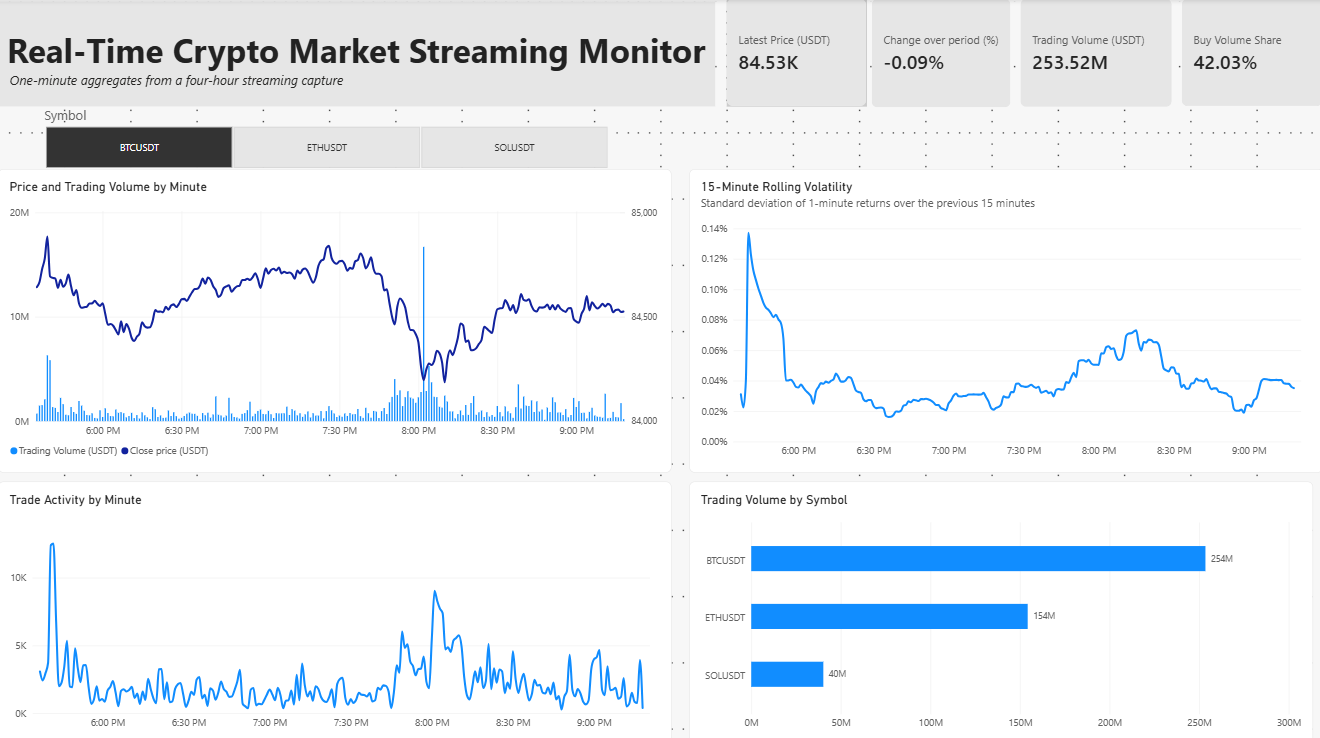

The dashboard page shown, as its layout file describes it:
{"tool":"powerbi","page":{"name":"Crypto Dashboard","canvas":[1920,1080],"ordinal":0},"visuals":[{"type":"lineClusteredColumnComboChart","title":"Price and Trading Volume by Minute","fields":{"Category":["live bars_1m.window_start"],"Y":["Sum(live bars_1m.quote_volume)"],"Y2":["Max(live bars_1m.close)"]},"box":[0,246.3,976.3,440.2],"z":0},{"type":"lineChart","title":"Trade Activity by Minute","fields":{"Category":["live bars_1m.window_start"],"Y":["Sum(live bars_1m.trade_count)"]},"box":[0,699.1,976.3,380.4],"z":2},{"type":"lineChart","title":"15-Minute Rolling Volatility","fields":{"Category":["live bars_1m.window_start"],"Y":["live bars_1m.Bar Range %"]},"box":[1001.7,246.3,918.3,440.2],"z":3},{"type":"cardVisual","fields":{"Data":["live bars_1m.Latest Price"]},"box":[1056,0,202.9,155.8],"z":4},{"type":"cardVisual","fields":{"Data":["live bars_1m.Price Change %"]},"box":[1266.8,0,201.1,157.6],"z":5},{"type":"cardVisual","fields":{"Data":["live bars_1m.Volume USDT"]},"box":[1481.7,0,219.1,156.5],"z":6},{"type":"cardVisual","fields":{"Data":["live bars_1m.Buy Share %"]},"box":[1715.3,0,204.7,155.8],"z":7},{"type":"barChart","title":"Trading Volume by Symbol","fields":{"Category":["live bars_1m.symbol"],"Y":["Sum(live bars_1m.quote_volume)"]},"box":[1001.7,699.1,903.8,380.4],"z":8},{"type":"slicer","title":"Select Symbol","fields":{"Values":["live bars_1m.symbol"]},"box":[48.9,182.9,853.1,63.4],"z":9},{"type":"textbox","box":[0,4.2,1039.3,152.3],"z":11},{"type":"textbox","box":[67,155.8,333.3,27.2],"z":12}]}

Visuals, with their boxes in screenshot pixels (x1, y1, x2, y2), scaled from the page's 1920x1080 canvas onto the 1320x738 screenshot:
"Price and Trading Volume by Minute" lineClusteredColumnComboChart: detection(0, 168, 671, 469)
"Trade Activity by Minute" lineChart: detection(0, 478, 671, 737)
"15-Minute Rolling Volatility" lineChart: detection(689, 168, 1319, 469)
cardVisual - live bars_1m.Latest Price: detection(726, 0, 865, 106)
cardVisual - live bars_1m.Price Change %: detection(871, 0, 1009, 108)
cardVisual - live bars_1m.Volume USDT: detection(1019, 0, 1169, 107)
cardVisual - live bars_1m.Buy Share %: detection(1179, 0, 1319, 106)
"Trading Volume by Symbol" barChart: detection(689, 478, 1310, 737)
"Select Symbol" slicer: detection(34, 125, 620, 168)
textbox: detection(0, 3, 715, 107)
textbox: detection(46, 106, 275, 125)
